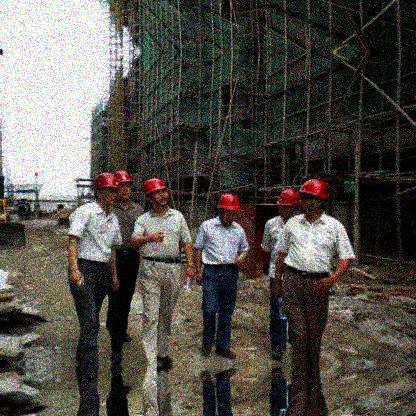helmet: (299, 179, 329, 216), (215, 192, 242, 225), (94, 173, 118, 207), (143, 178, 169, 208), (274, 191, 299, 219), (115, 171, 135, 199)
